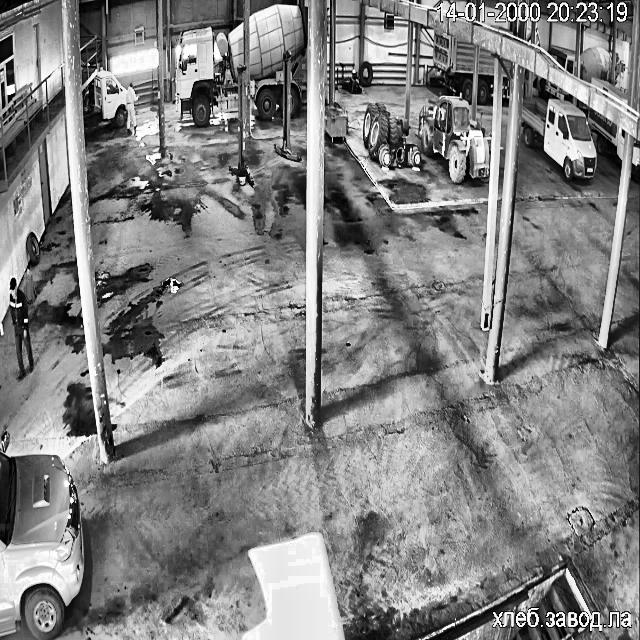class4: (9, 277, 32, 379), (126, 84, 136, 133)
class6: (418, 96, 488, 182), (362, 103, 420, 165)
class7: (176, 22, 244, 124), (248, 4, 306, 118), (522, 99, 596, 180), (433, 28, 474, 101), (92, 69, 126, 125), (588, 108, 624, 157), (580, 46, 610, 81), (477, 49, 494, 103), (592, 78, 628, 102), (548, 45, 574, 73), (538, 78, 571, 98), (632, 140, 640, 178), (500, 74, 508, 99), (616, 53, 622, 76), (504, 60, 510, 71)
mechanic: (0, 432, 83, 638)
tractor: (24, 268, 35, 300)
truck: (229, 66, 253, 186), (274, 52, 300, 161)
